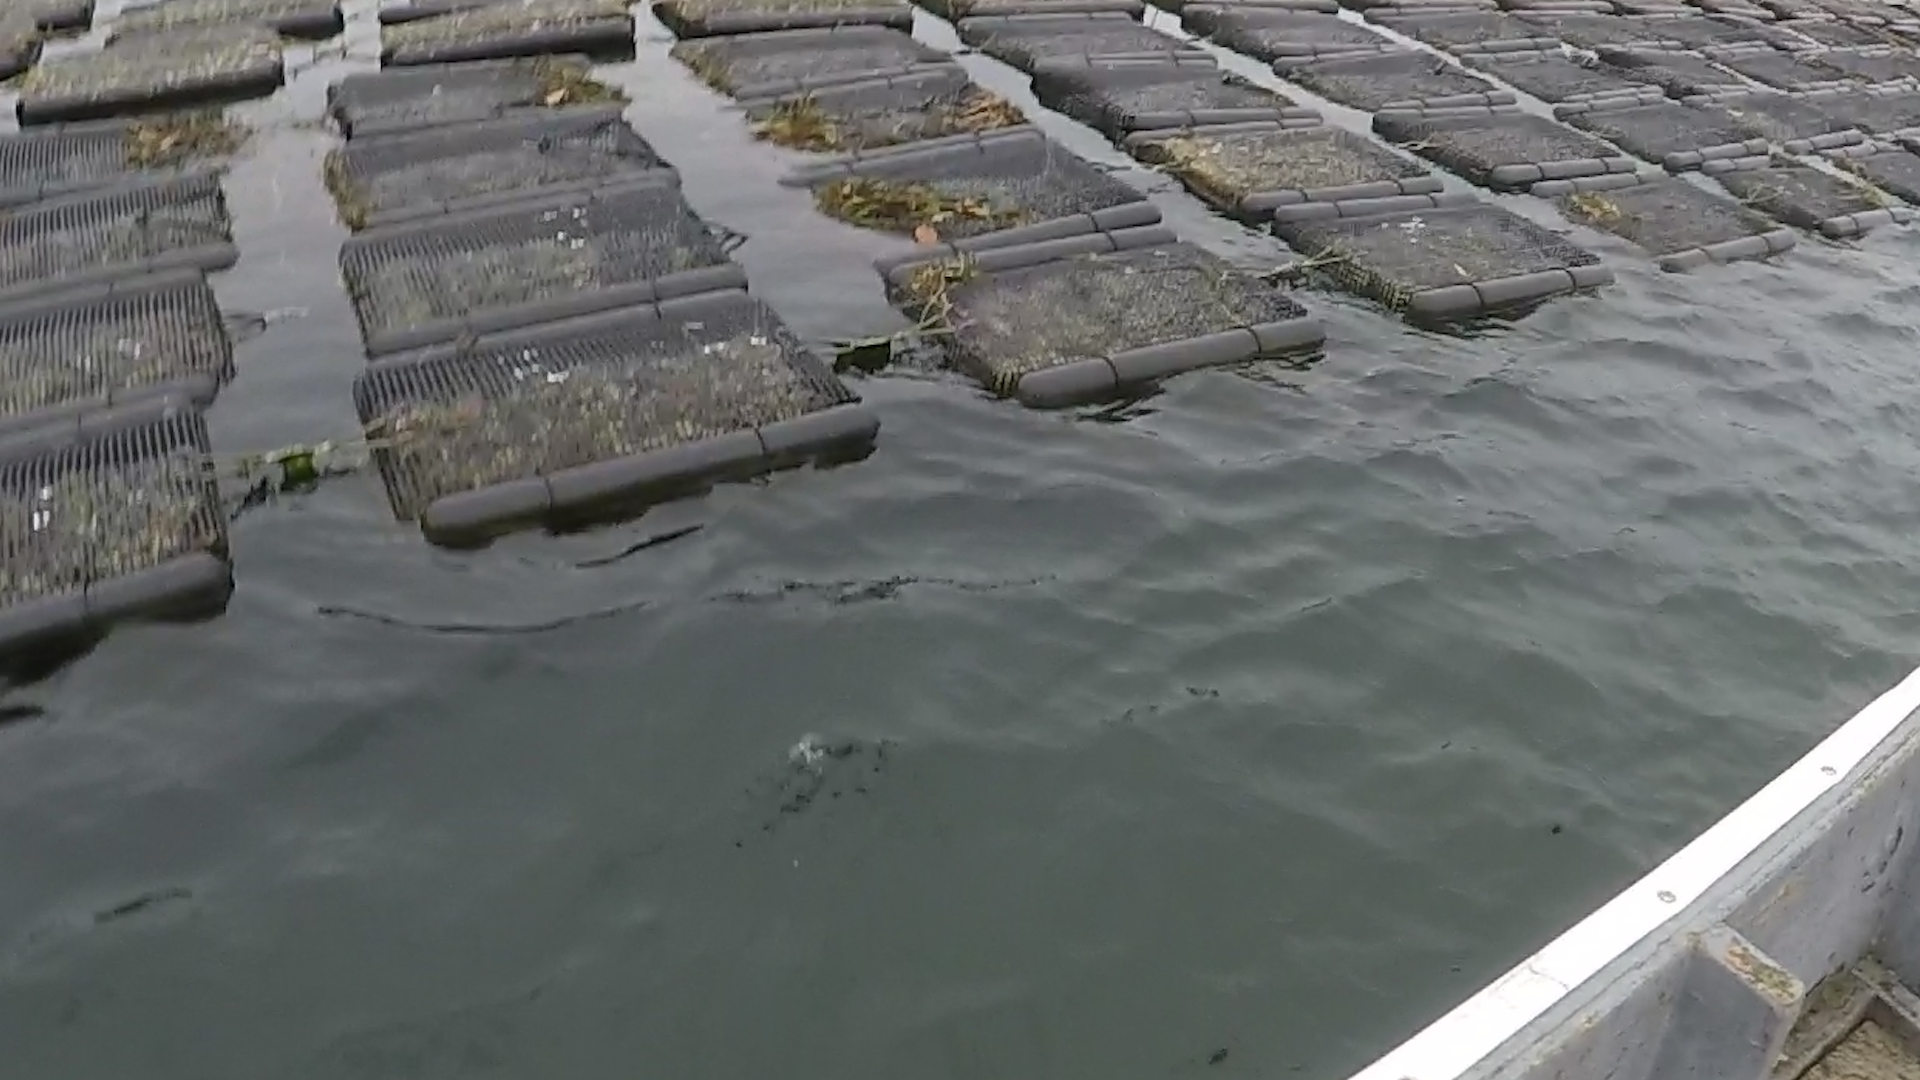bag: (352, 320, 874, 551), (872, 224, 1317, 407), (1270, 190, 1618, 323)
